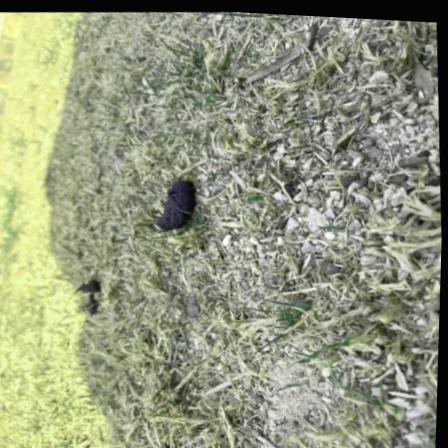dog-poop: (130, 167, 200, 233), (73, 271, 110, 317)
